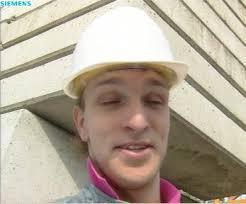helmet: (63, 5, 190, 98)
